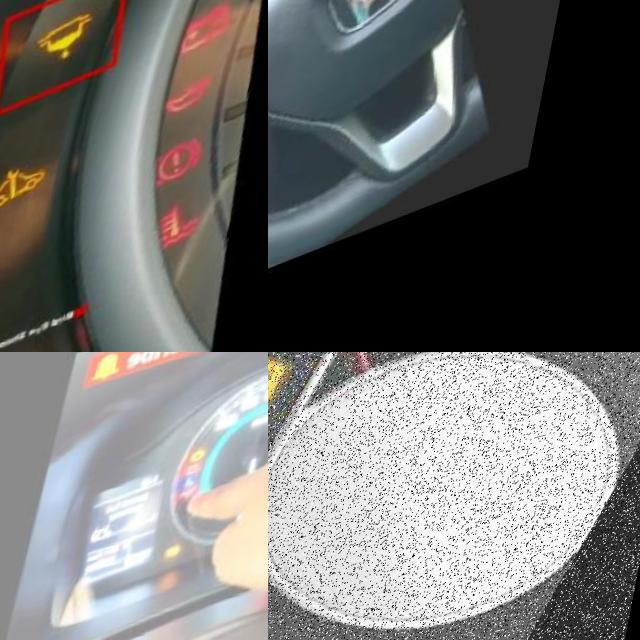Engine cooling system: (171, 204, 240, 280), (195, 483, 206, 496)
